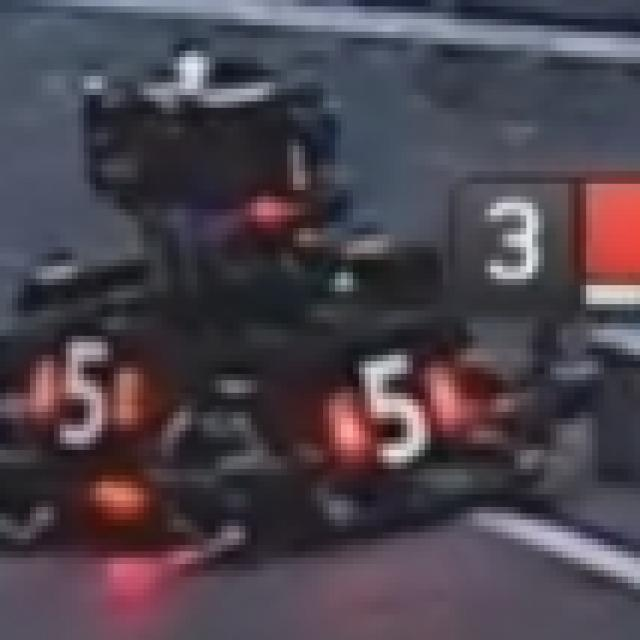R5: (317, 342, 461, 494), (24, 336, 143, 456)
